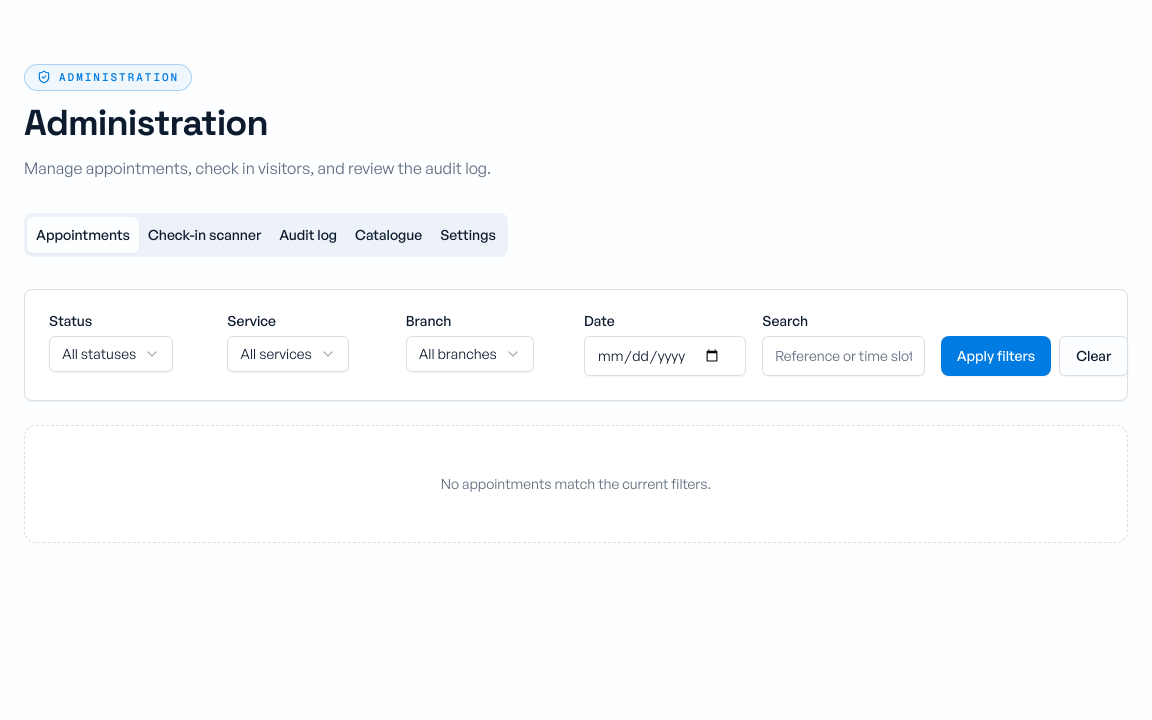
AdminPage audit log › lists recorded audit actions for the administrator
What coordinates should you click on to do the following:
click the tab with test id "admin.tab.audit"
I would click on:
 (308, 234)
Its box is [270, 216, 346, 252].
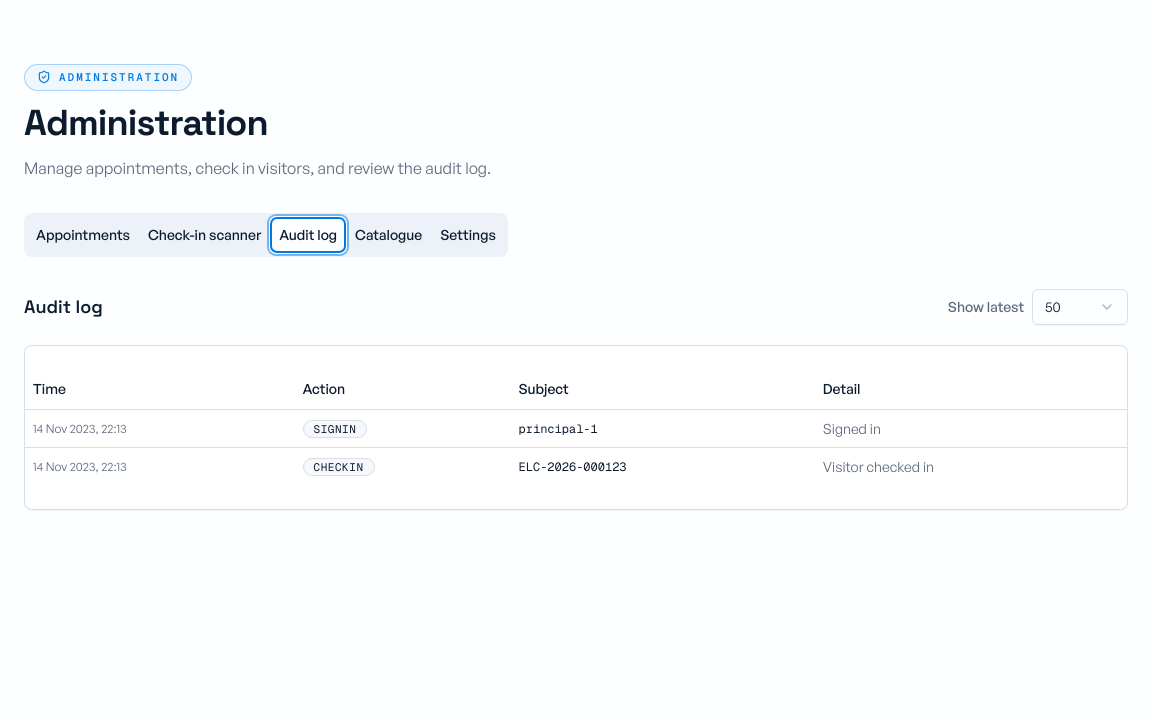
Now the row with test id "admin.audit_row.1" is shown, box [25, 410, 1127, 448]
Now the row with test id "admin.audit_row.2" is shown, box [25, 448, 1127, 485]
Now the text "signIn" is shown, box [302, 420, 367, 438]
